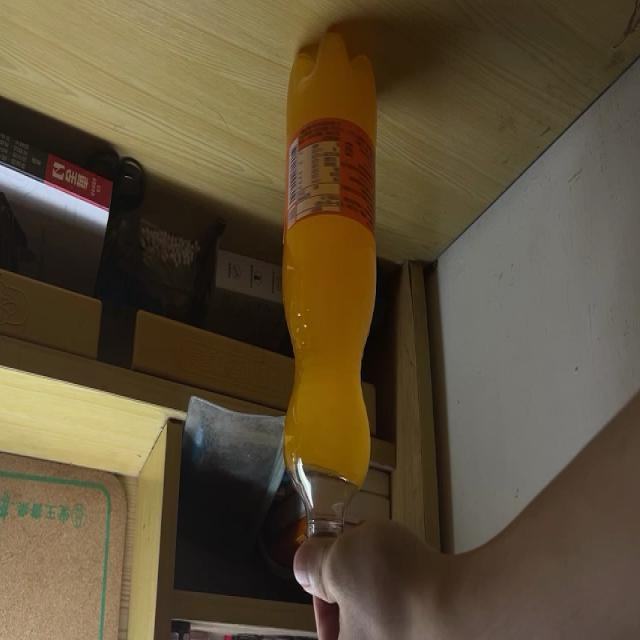Fanta: (281, 29, 379, 578)
